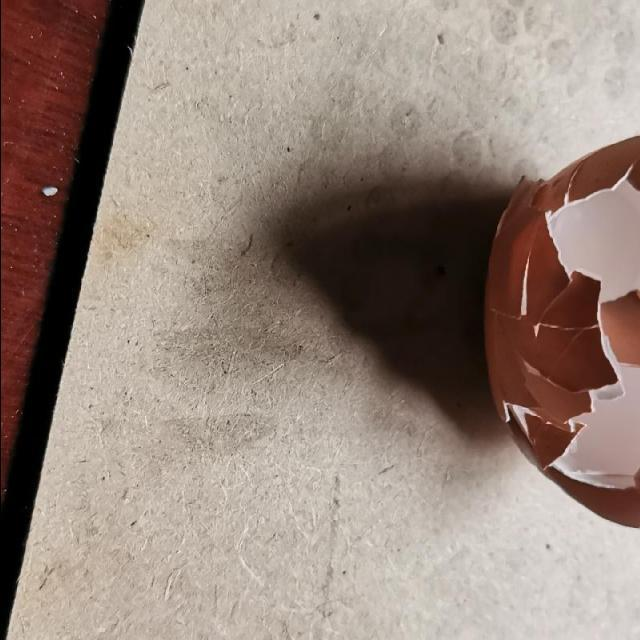egg shell: (479, 129, 639, 529)
